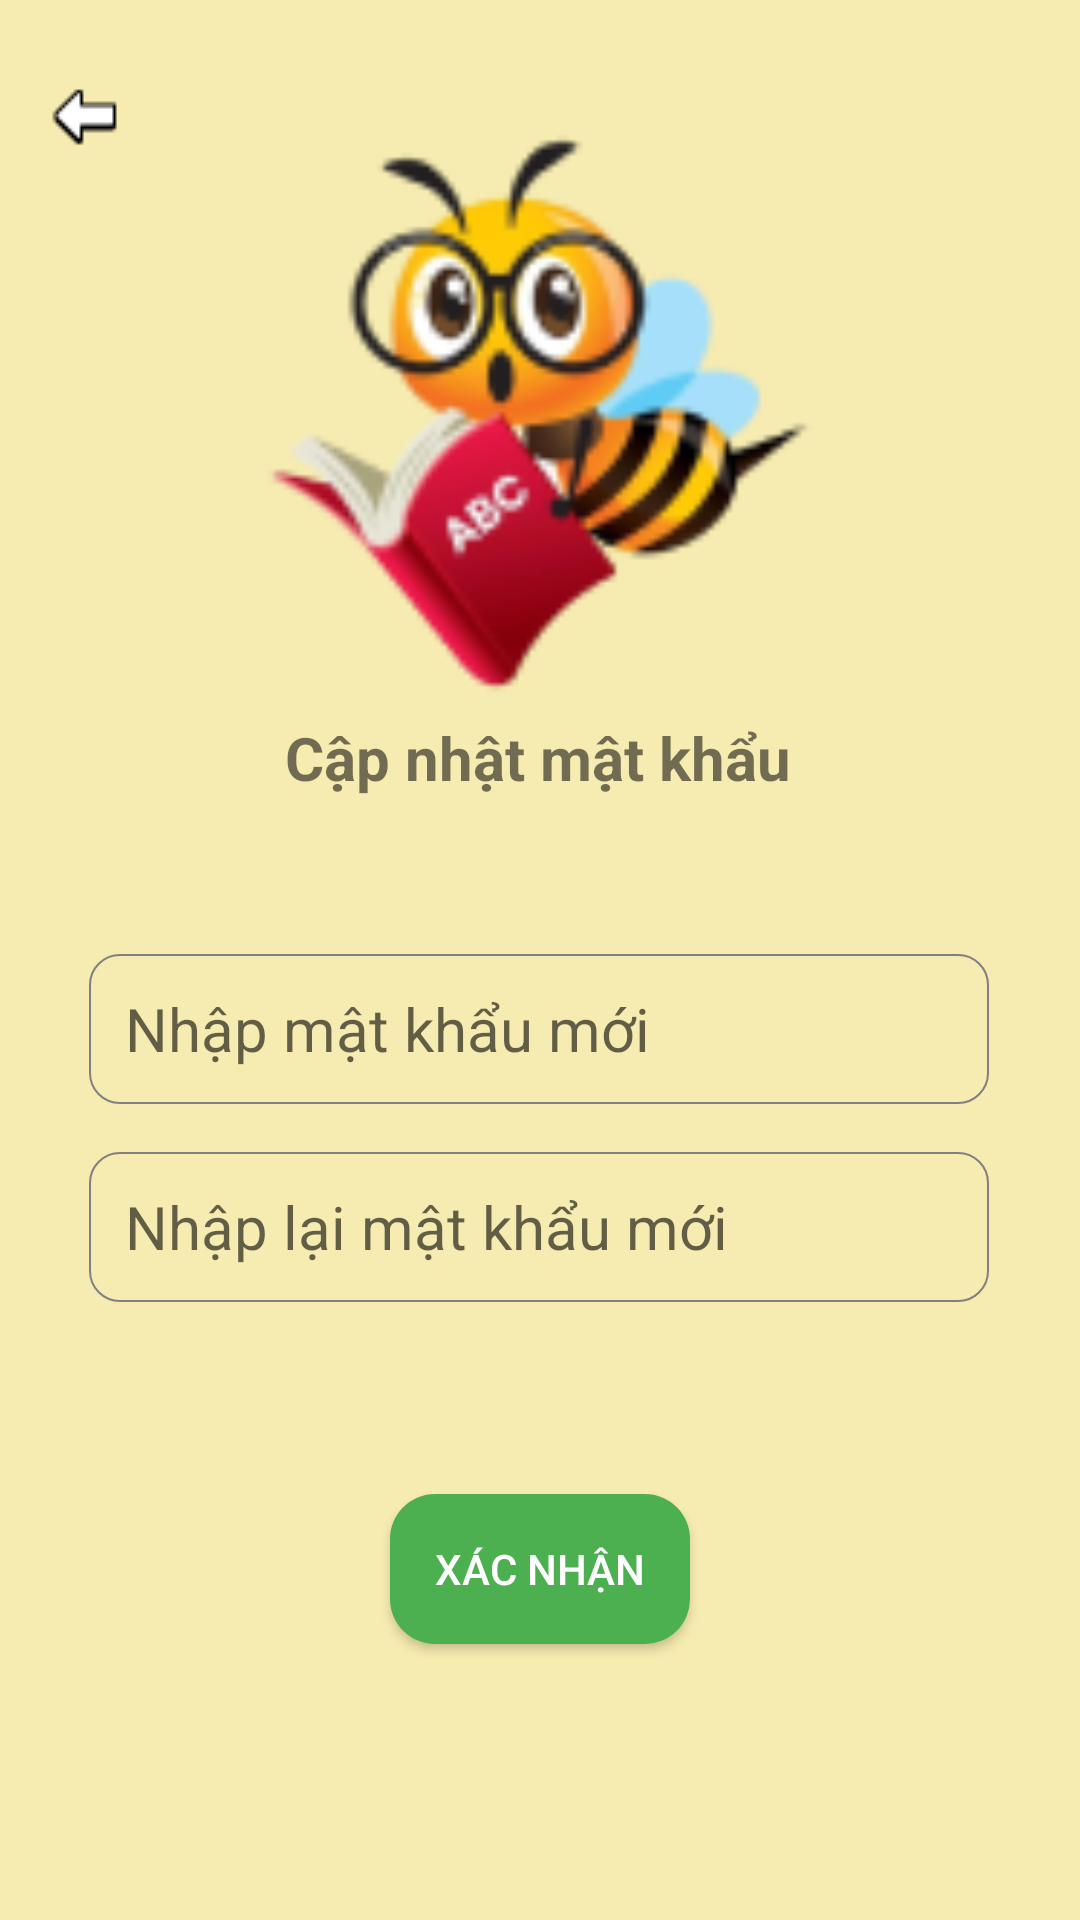

Named icons in this screenshot (1080*1920) and their bounding boxes, (x1, y1, x2, y2):
back: (52, 89, 117, 145)
